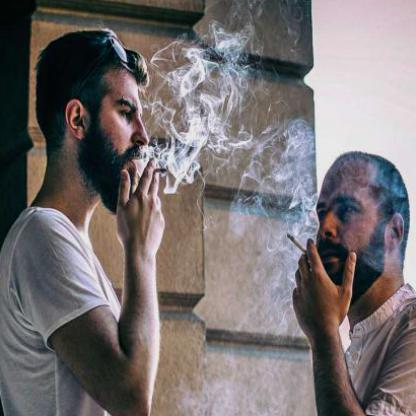cigarette: (286, 232, 308, 254), (152, 167, 170, 176)
person: (0, 24, 164, 415), (293, 148, 415, 415)
smoke: (154, 18, 255, 194), (238, 110, 318, 247)
